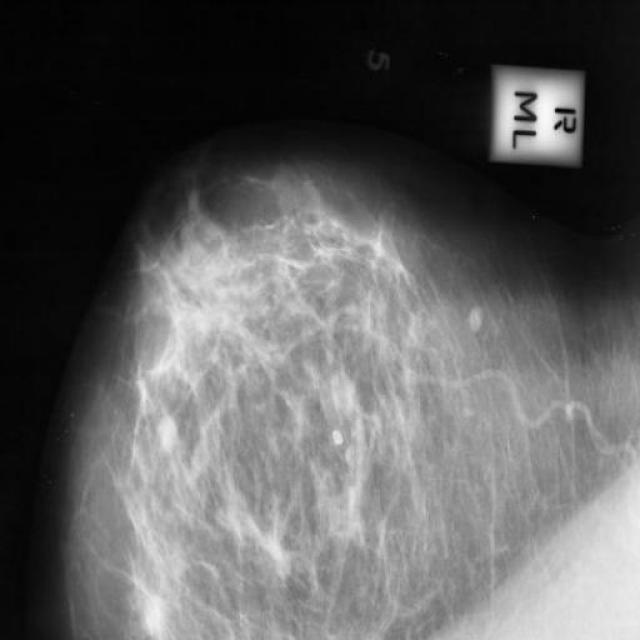cancer: (105, 539, 174, 639)
